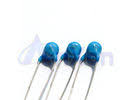ceramic capacitor: (27, 32, 59, 67), (82, 35, 108, 66), (62, 35, 81, 69)
